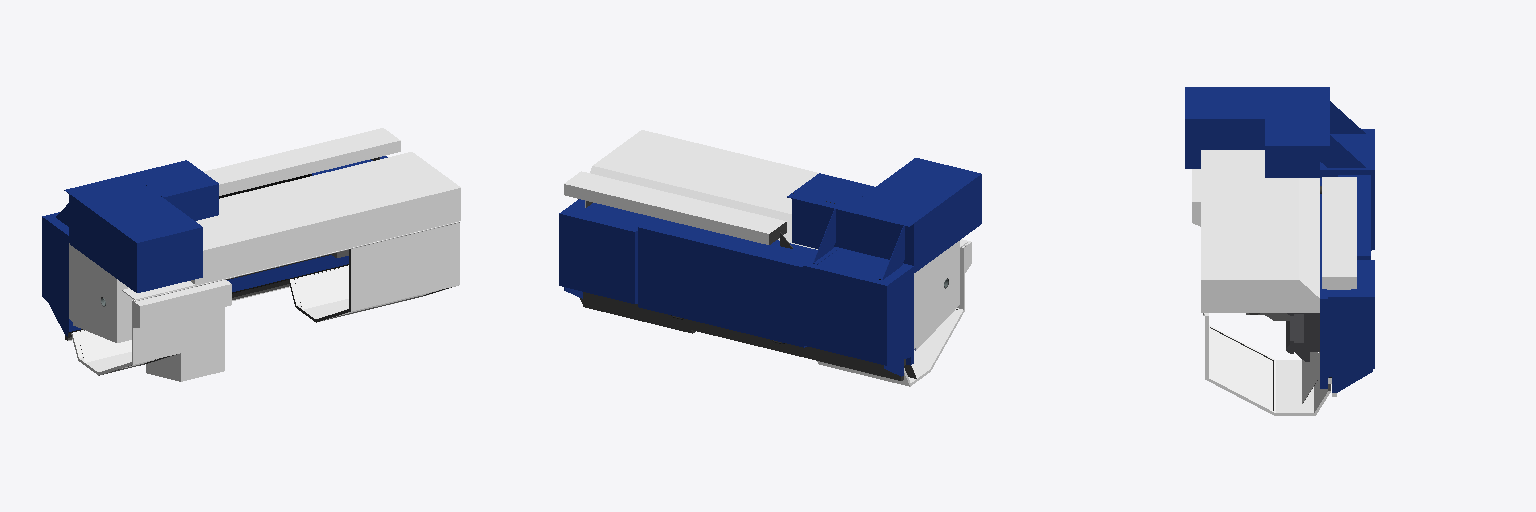
File: 注塑机_3000L.obj
3 renders of one model, left to right at view 1: azimuth 30°, elevation 25°; view 2: azimuth 150°, elevation 25°; view 3: azimuth 270°, elevation 25°, orthographic.
Parts seen in each view (by area): view 1: GeoContainer; view 2: GeoContainer; view 3: GeoContainer.
Part boxes in pixels (left/top/right/bottom): GeoContainer: left=42, top=128, right=460, bottom=381; GeoContainer: left=559, top=130, right=981, bottom=386; GeoContainer: left=1185, top=87, right=1374, bottom=415.
Size of the model in its own units: 5676 by 2875 by 2806.